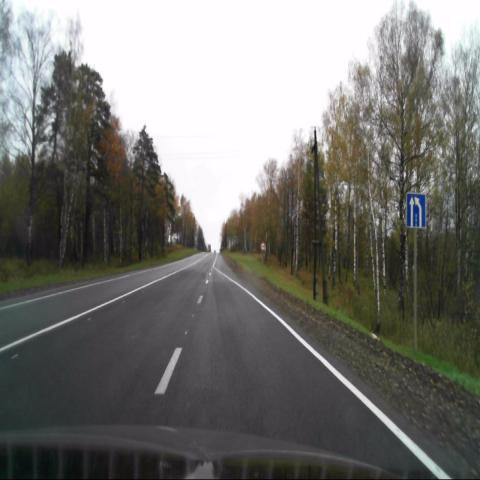5_15_5: (406, 194, 424, 228)
